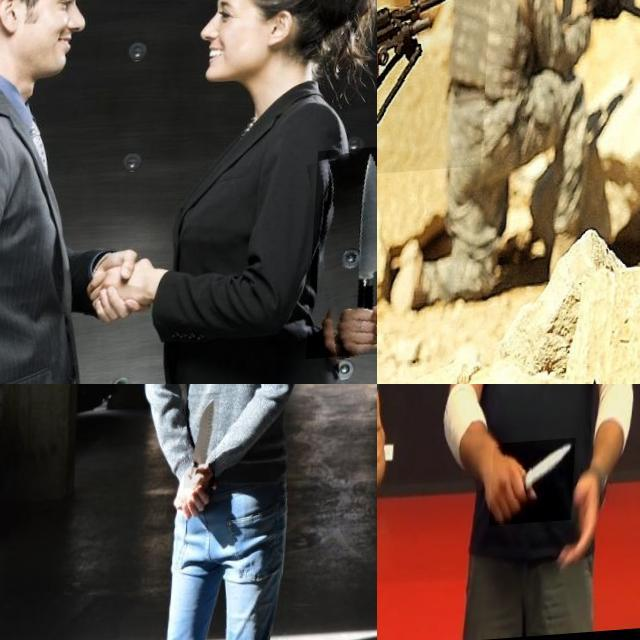-: (312, 154, 377, 367), (496, 444, 582, 532), (0, 175, 44, 341), (188, 397, 222, 492)
gun-knife-thesis - v11 Yolov5 augmented: (377, 0, 555, 193)
